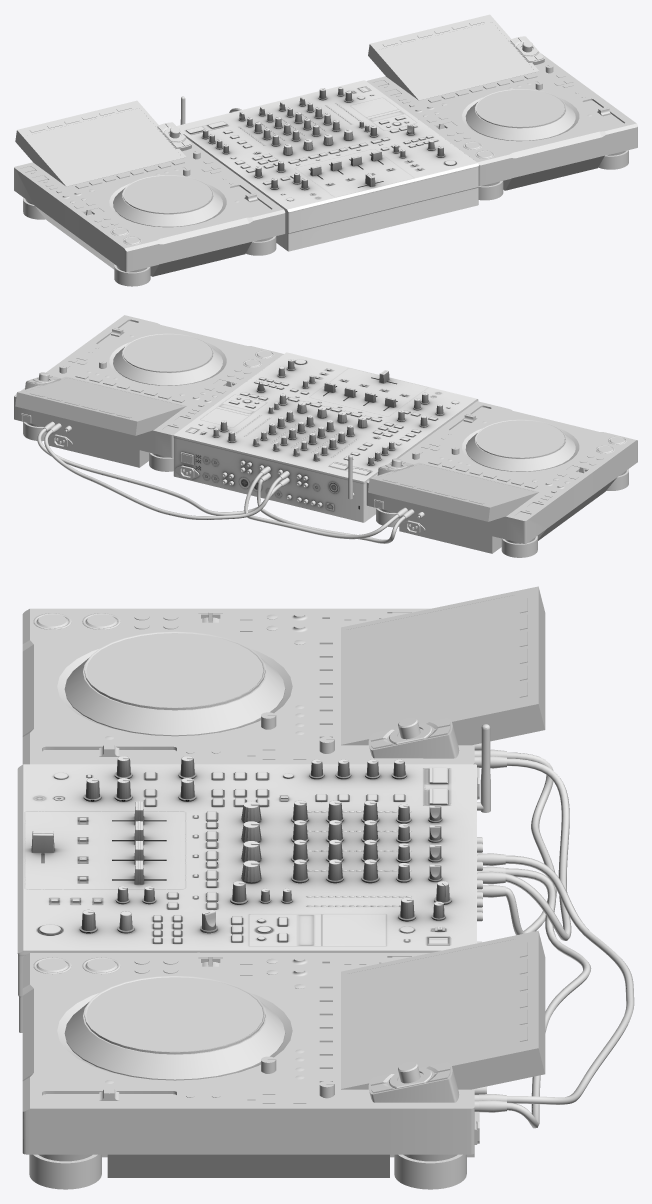
File: Pack2.fbx
The picture shows the model from 3 angles, top to bottom: view 1: azimuth 30°, elevation 25°; view 2: azimuth 150°, elevation 25°; view 3: azimuth 270°, elevation 25°; orthographic projection. The views are drawn at different scales.
Parts seen in each view (by area): view 1: Pack2, Mixer; view 2: Pack2, Mixer, Cables, Connectors; view 3: Pack2, Mixer, Cables, Connectors, Antena.
Part boxes in pixels (box(x1,y1,x2,y2)): Pack2: box(14, 14, 637, 286); Mixer: box(176, 80, 478, 251); Pack2: box(14, 315, 637, 557); Mixer: box(173, 352, 478, 522); Cables: box(37, 428, 405, 543); Connectors: box(43, 422, 413, 519); Pack2: box(22, 586, 545, 1189); Mixer: box(17, 756, 482, 1032); Cables: box(505, 752, 634, 1128); Connectors: box(477, 749, 506, 1112); Antena: box(477, 724, 490, 812).
Bounding box in the file's own units: 105 × 13.48 × 54.76.
